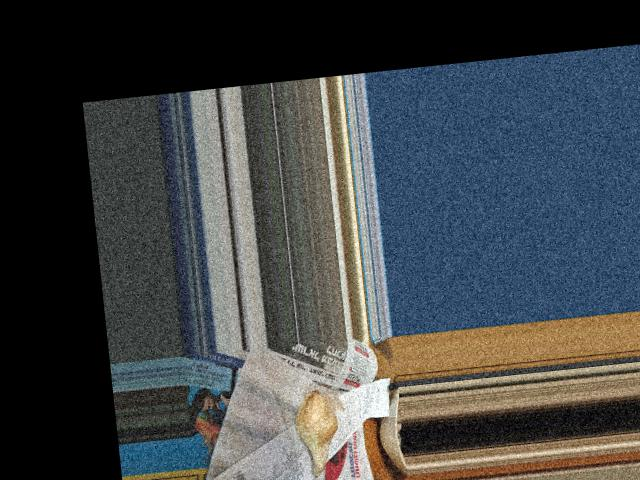onion: (292, 387, 342, 469)
